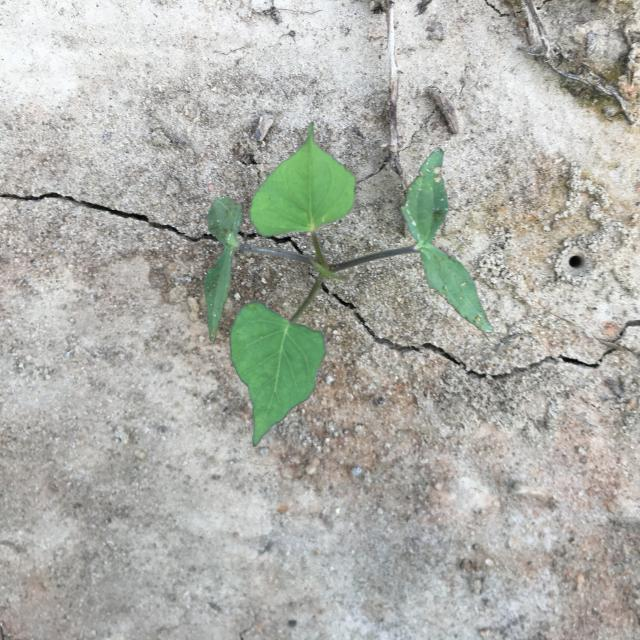MorningGlory: (203, 120, 494, 447)
